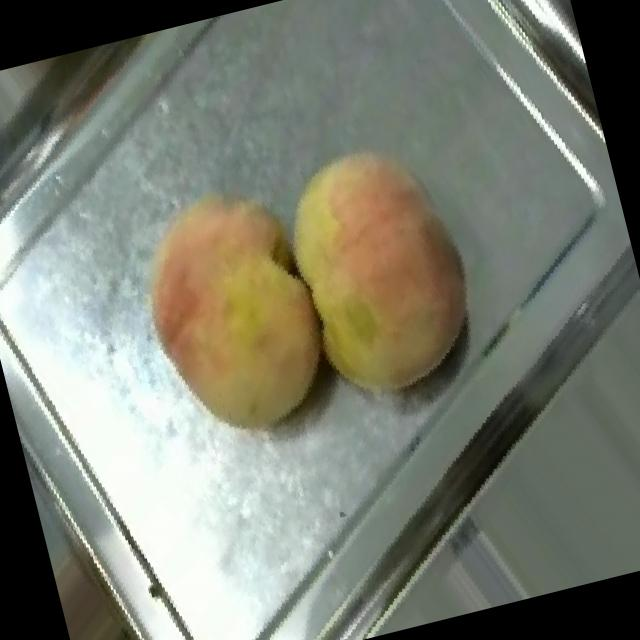Fruit: (87, 142, 376, 482), (235, 100, 523, 436)
